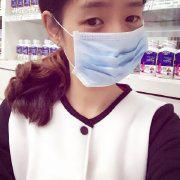OK: (66, 2, 151, 87)
